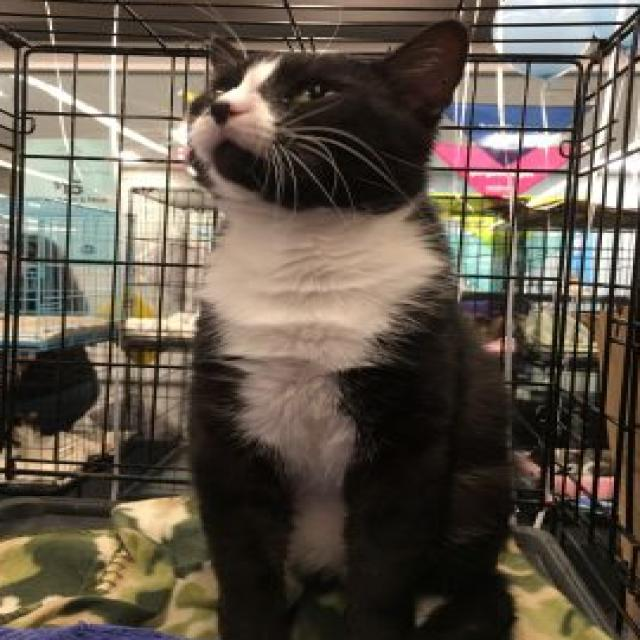Tuxedo: (178, 12, 519, 640)
